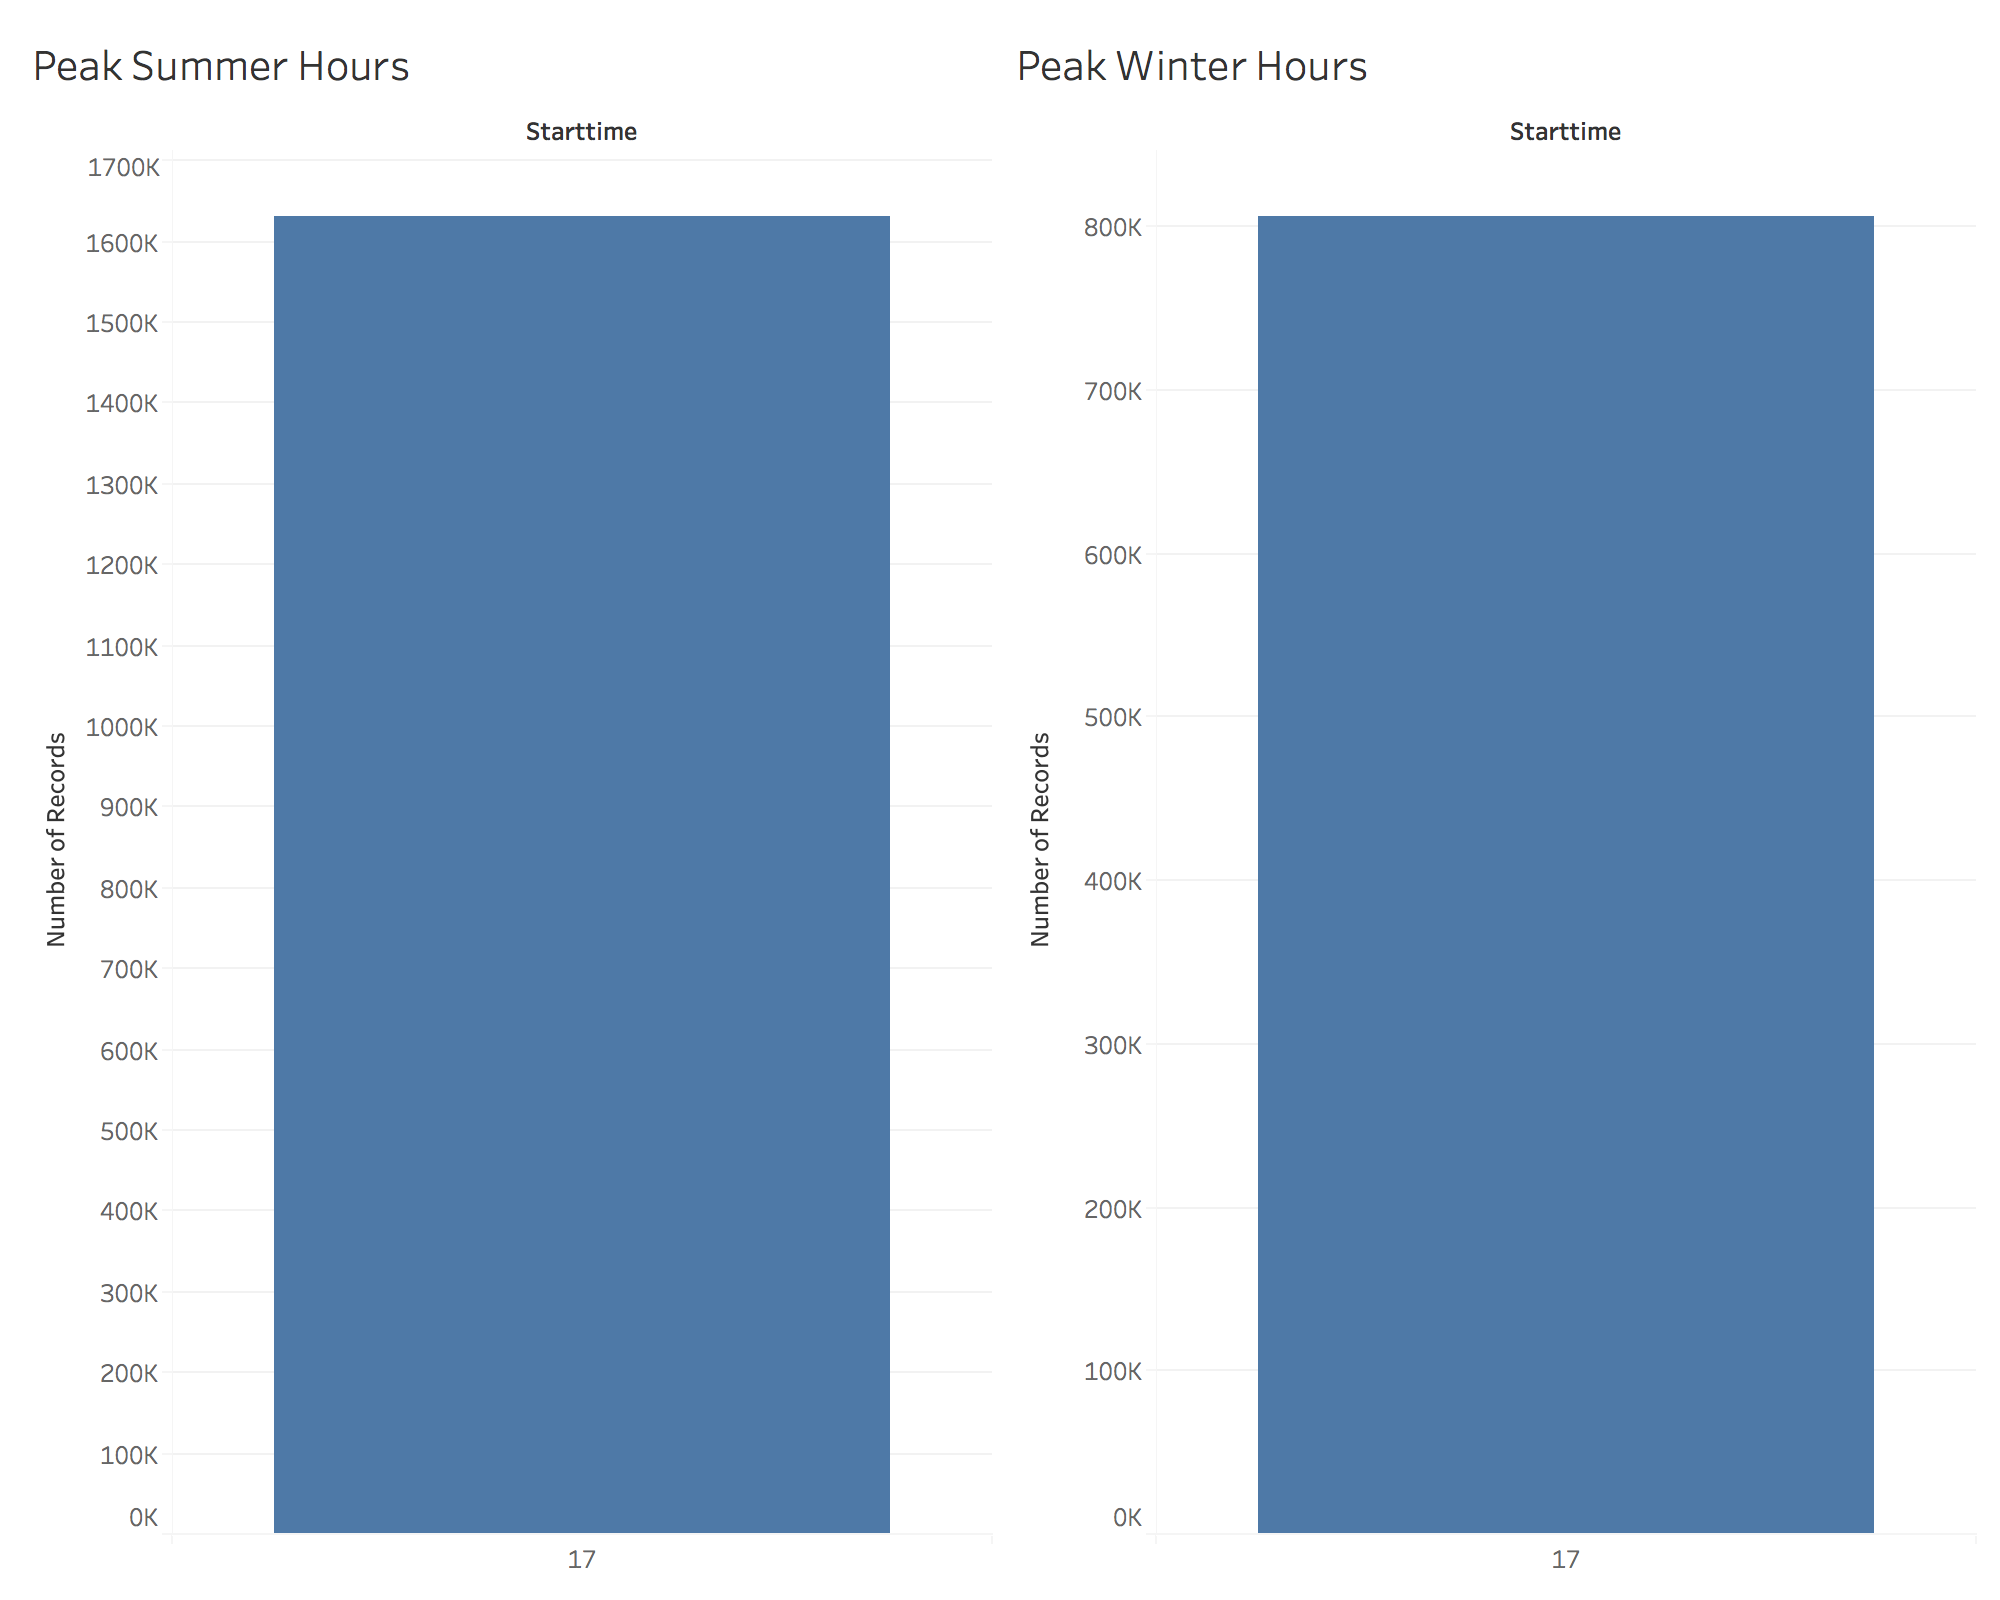

The dashboard page shown, as its layout file describes it:
{"tool":"tableau","page":{"name":"Peak Hours","canvas":[1000,800],"ordinal":4},"visuals":[{"type":"worksheet","title":"Peak Summer Hours","mark":"Bar","rows":["Number of Records"],"cols":["starttime"],"box":[8,8,492,784]},{"type":"worksheet","title":"Peak Winter Hours","mark":"Bar","rows":["Number of Records"],"cols":["starttime"],"box":[500,8,492,784]}]}

Visuals, with their boxes in screenshot pixels (x1, y1, x2, y2), scaled from the page's 1000x800 canvas onto the 2000x1600 screenshot:
"Peak Summer Hours" worksheet (Bar marks): box(16, 16, 1000, 1584)
"Peak Winter Hours" worksheet (Bar marks): box(1000, 16, 1984, 1584)
